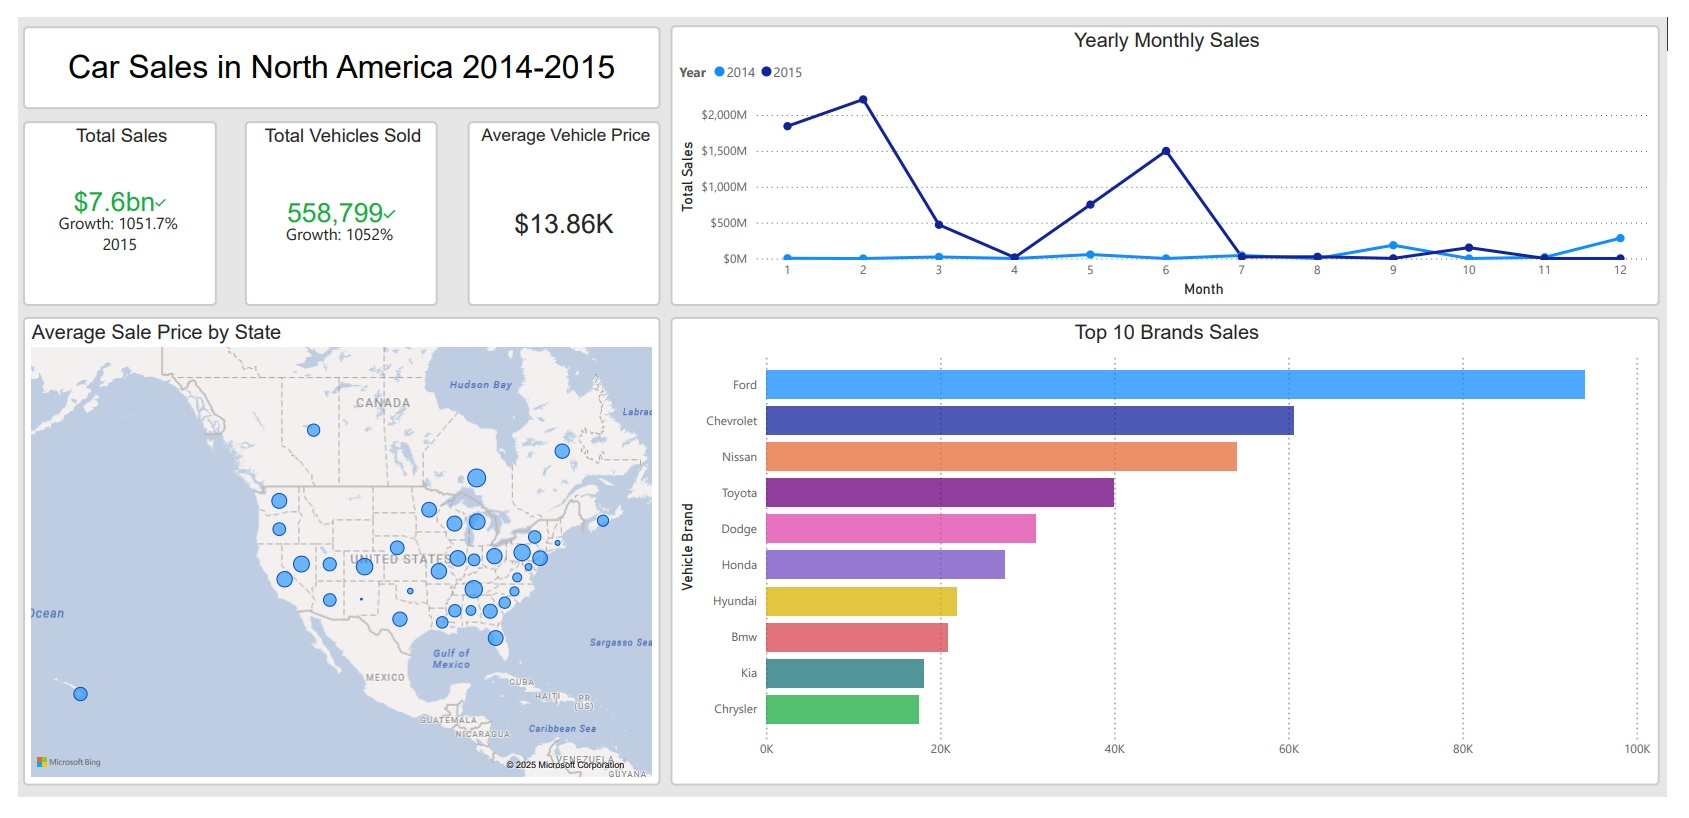

Layout of this report page (visuals, bound fields, positions):
{"tool":"powerbi","page":{"name":"Dashboard","canvas":[1280,720],"ordinal":3},"visuals":[{"type":"shape","box":[4.8,9.7,485,56.7],"z":0},{"type":"kpi","title":"Total Sales","fields":{"Indicator":["Car Sales.Total Sales","select","select1"],"TrendLine":["Date Table.Year"],"Goal":["Car Sales.Sales YoY Growth"]},"box":[4.8,73.6,147.2,137.5],"z":1000},{"type":"lineChart","title":"Monthly Total Sales","fields":{"Series":["Date Table.Year"],"Category":["Date Table.Year","Date Table.Month"],"Y":["Car Sales.Total Sales"]},"box":[493.4,9.7,781.8,267.8],"z":2000},{"type":"barChart","title":"Top 10 Brands Sold","fields":{"Category":["Car Sales.Manufacturer"],"Y":["Sum(Car Sales.Units Sold)"],"Series":["Car Sales.Manufacturer"]},"box":[493.4,292,781.8,418.6],"z":3000},{"type":"kpi","title":"Total Vehicles Sold","fields":{"Indicator":["CountNonNull(Car Sales.Sale Price)","select"],"TrendLine":["Date Table.Year"],"Goal":["Car Sales.Sales YoY Growth"]},"box":[173.7,73.6,147.2,137.5],"z":4000},{"type":"kpi","title":"Average Vehicle Price","fields":{"TrendLine":["Car Sales.Date Year"],"Indicator":["Avg(Car Sales.Sale Price)"]},"box":[341.4,73.6,147.2,137.5],"z":5000},{"type":"map","title":"Average Vehicle Price by State","fields":{"Category":["Car Sales.State"],"Size":["Avg(Car Sales.Sale Price)"]},"box":[4.8,225.6,483.8,485],"z":6000}]}

Visuals, with their boxes on the page's 1280x720 design canvas (x1, y1, x2, y2). These are canvas units, not pixel positions in the 1689x818 screenshot, which may show the page scaled, cropped or inside an application window:
shape: (left=5, top=10, right=490, bottom=66)
"Total Sales" kpi: (left=5, top=74, right=152, bottom=211)
"Monthly Total Sales" lineChart: (left=493, top=10, right=1275, bottom=278)
"Top 10 Brands Sold" barChart: (left=493, top=292, right=1275, bottom=711)
"Total Vehicles Sold" kpi: (left=174, top=74, right=321, bottom=211)
"Average Vehicle Price" kpi: (left=341, top=74, right=489, bottom=211)
"Average Vehicle Price by State" map: (left=5, top=226, right=489, bottom=711)
